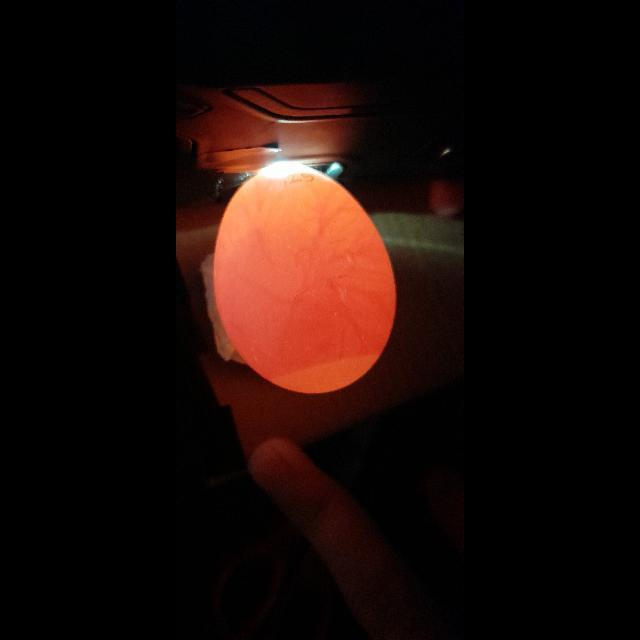Fertile: (208, 162, 400, 400)
